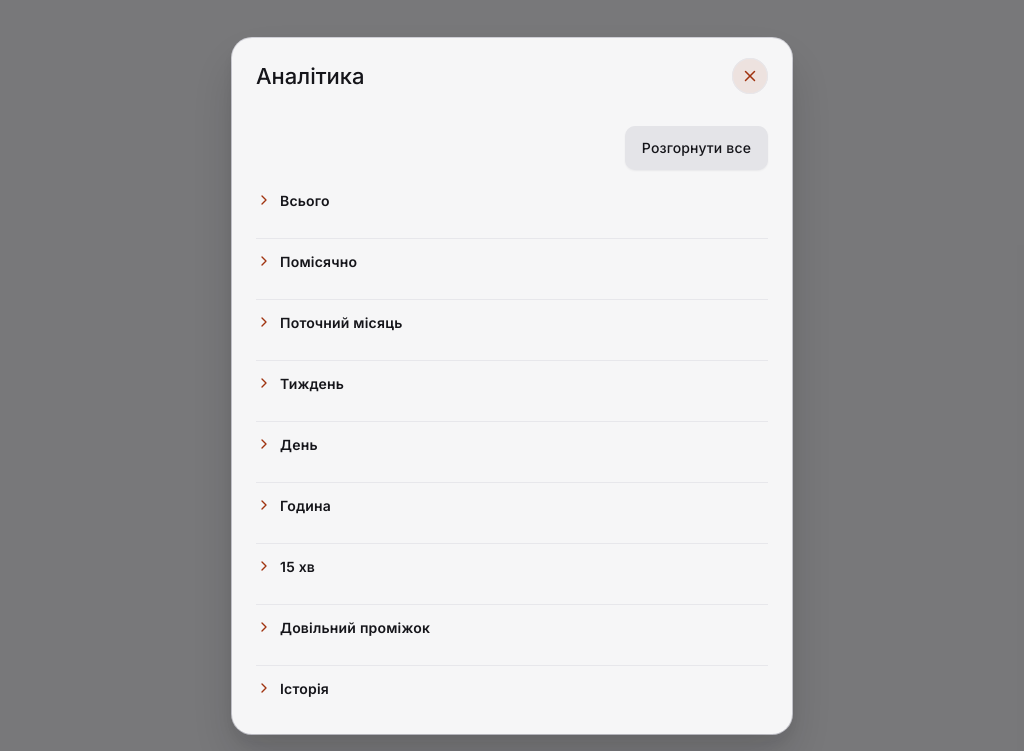
Scenario: історія › ⛔ рядок історії — не кнопка: минулий вимір не редагується, лише прибирається
Click the button "Історія": (305, 688) [256, 666, 768, 710]
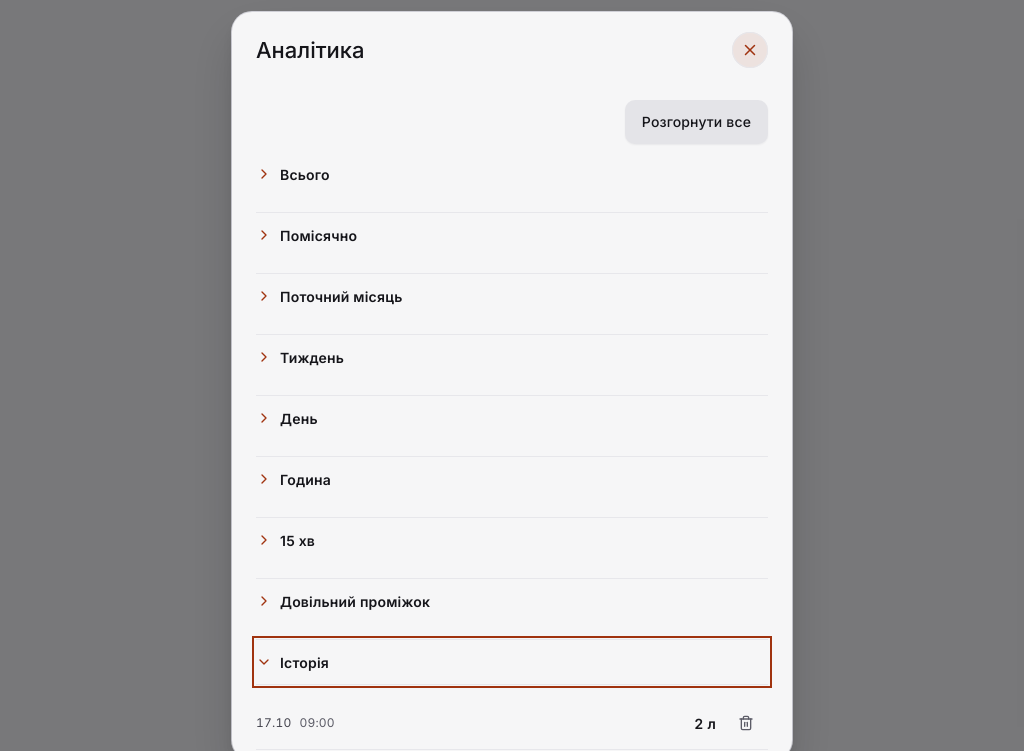
Expected: the button named "Прибрати запис" is shown, [724, 701, 768, 745]
